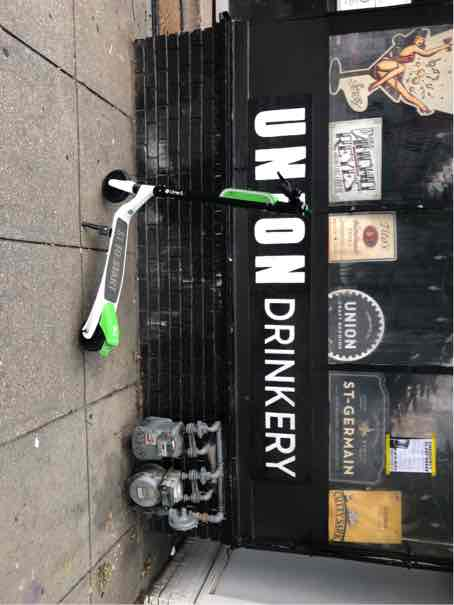scooter: (60, 143, 339, 366)
